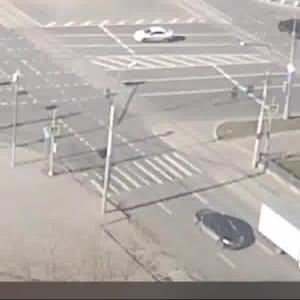car: (255, 196, 300, 270), (189, 204, 248, 257), (130, 28, 177, 46)
